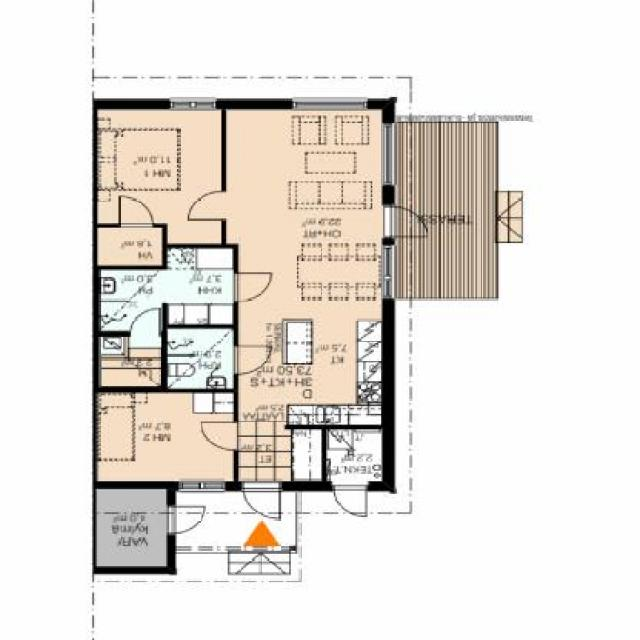door: (329, 477, 371, 518), (242, 483, 284, 522), (380, 206, 432, 237), (199, 422, 243, 452), (120, 194, 154, 229), (166, 506, 208, 534), (185, 192, 229, 218), (232, 272, 276, 298), (234, 346, 275, 372), (126, 310, 159, 336)
window: (290, 98, 368, 110), (380, 126, 394, 183), (172, 98, 215, 111), (180, 480, 225, 491), (382, 249, 391, 297)
zone: (237, 111, 386, 483), (98, 246, 237, 389), (389, 121, 494, 297), (95, 108, 223, 243), (95, 389, 234, 480), (96, 488, 164, 564), (94, 228, 161, 264), (496, 190, 522, 244)
